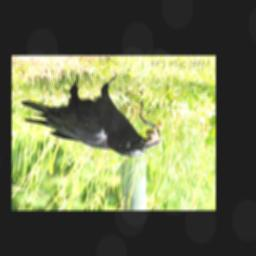Crow: (22, 75, 162, 157)
